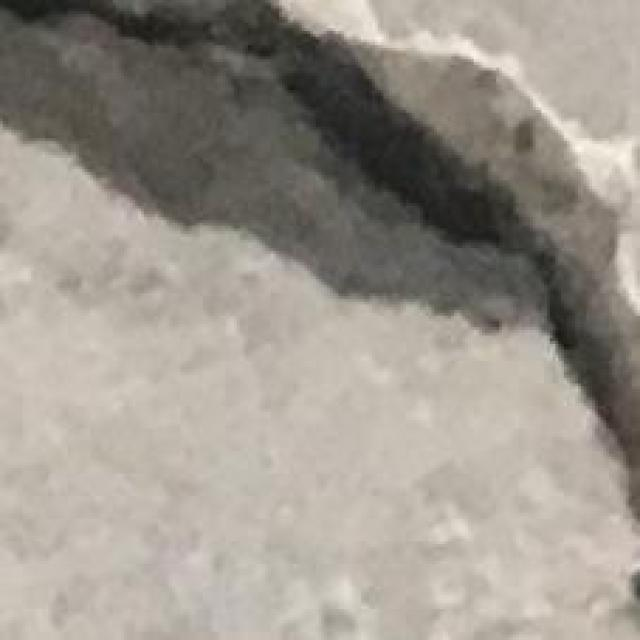Crack: (3, 3, 640, 516)
